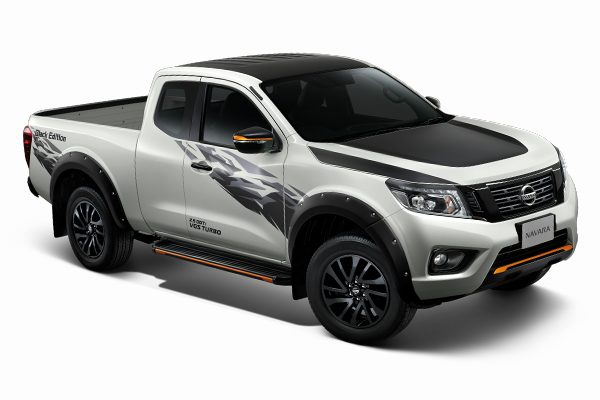pickup: (20, 48, 581, 347)
